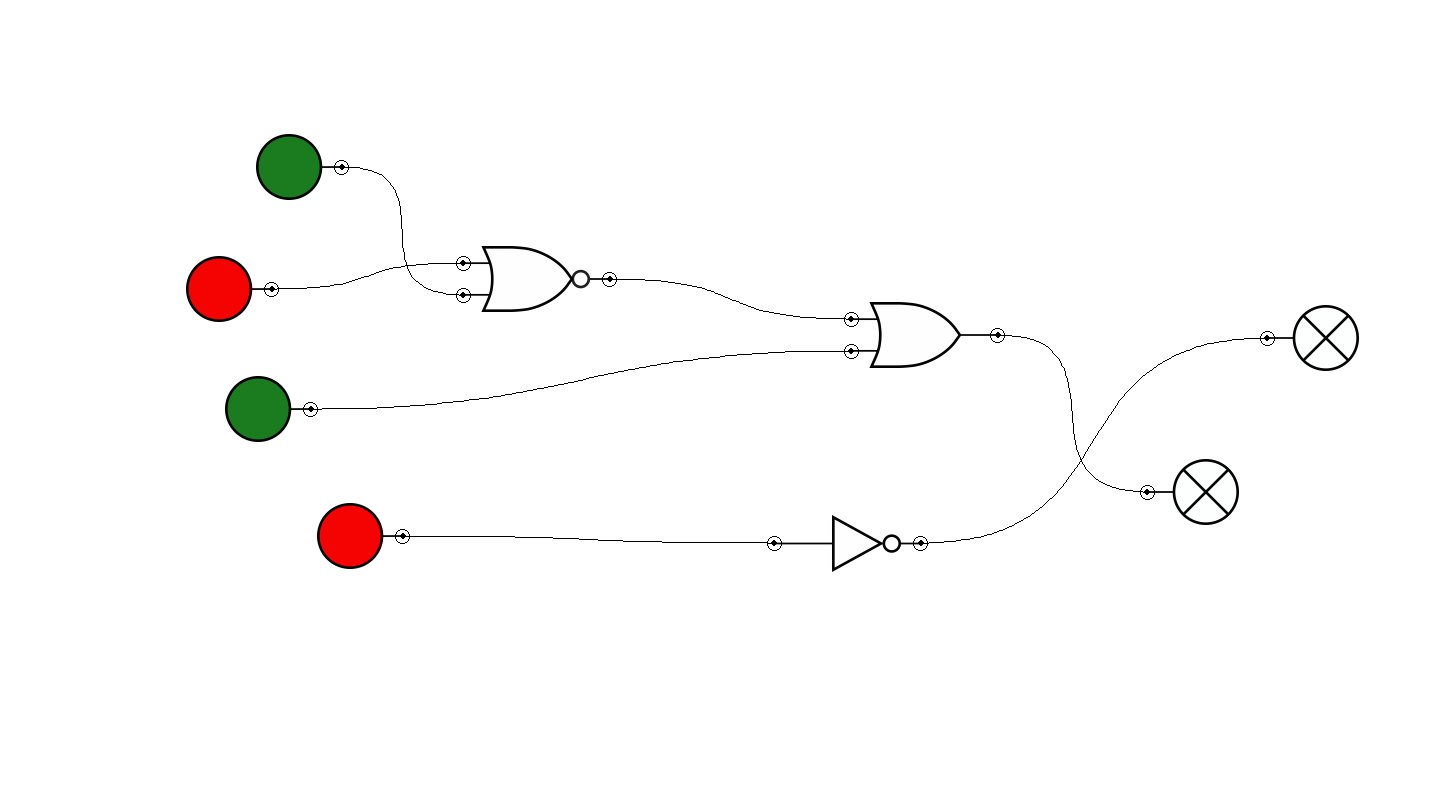bulb: (1260, 305, 1359, 371), (1140, 459, 1239, 525)
nor: (456, 246, 617, 312)
not: (767, 515, 928, 572)
or: (844, 302, 1005, 368)
switch_False: (317, 503, 410, 569), (186, 256, 279, 322)
switch_True: (225, 376, 318, 442), (256, 134, 349, 200)
